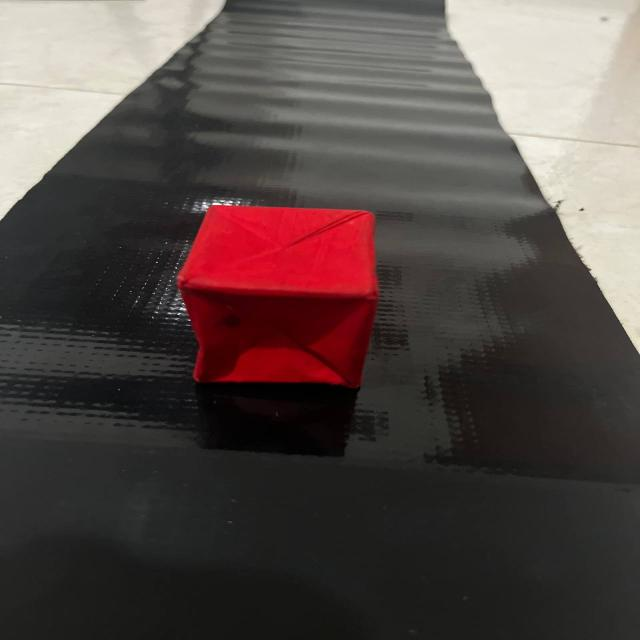Rojo: (155, 187, 410, 414)
